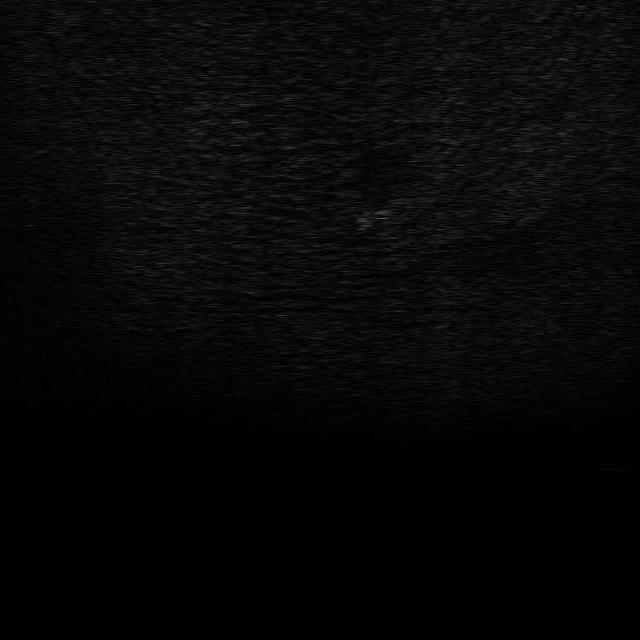plane: (348, 187, 410, 228)
